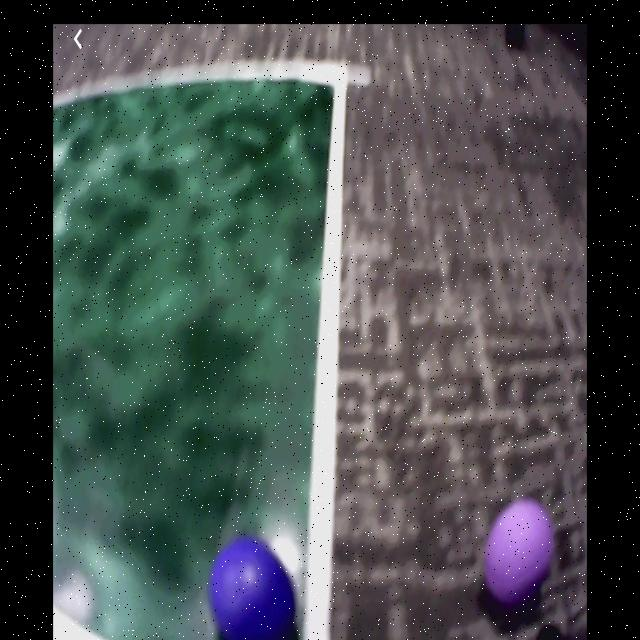ball: (209, 538, 298, 639), (486, 501, 552, 601)
